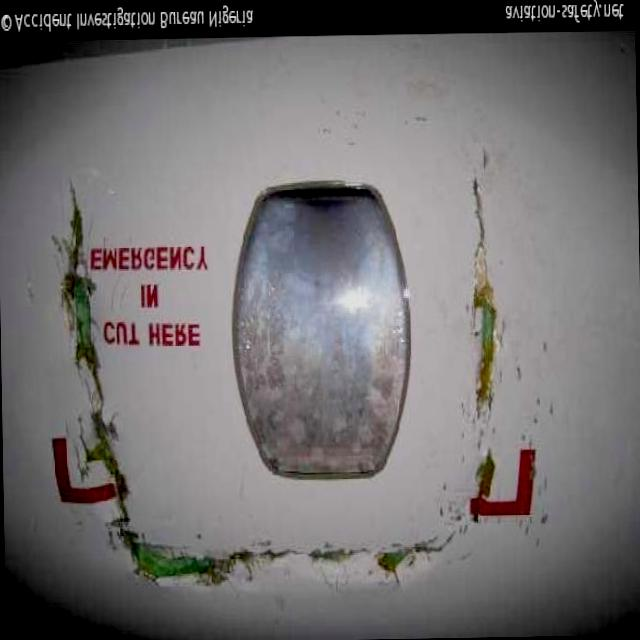crack: (47, 175, 136, 536), (120, 532, 460, 586), (464, 176, 502, 424)
